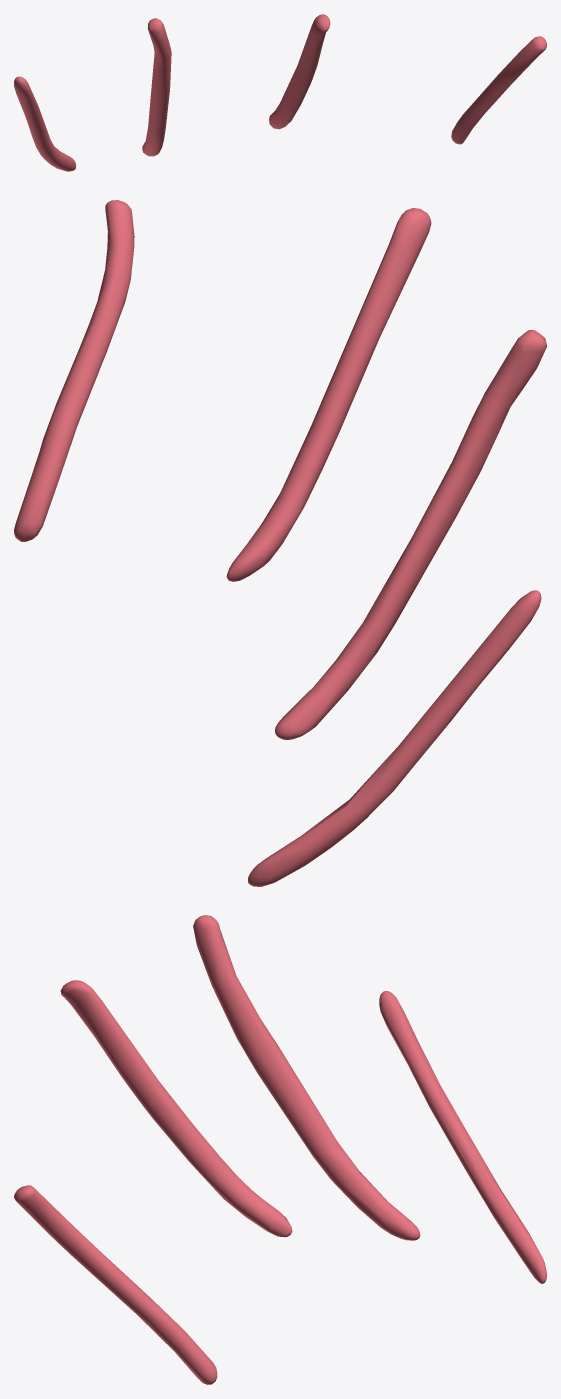
Rendered from fma70922_fj2138.glb.
3 renders of one model, top to bottom at view 1: azimuth 30°, elevation 25°; view 2: azimuth 150°, elevation 25°; view 3: azimuth 270°, elevation 25°, orthographic. The views are drawn at different scales.
Parts seen in each view (by area): view 1: FMA70922_FJ2138; view 2: FMA70922_FJ2138; view 3: FMA70922_FJ2138.
Part boxes in pixels (x1,y1,x2,y2): FMA70922_FJ2138: [14, 14, 546, 171]; FMA70922_FJ2138: [14, 200, 546, 886]; FMA70922_FJ2138: [14, 915, 546, 1384].
Bounding box in the file's own units: 0.041 × 0.026 × 0.0356.
